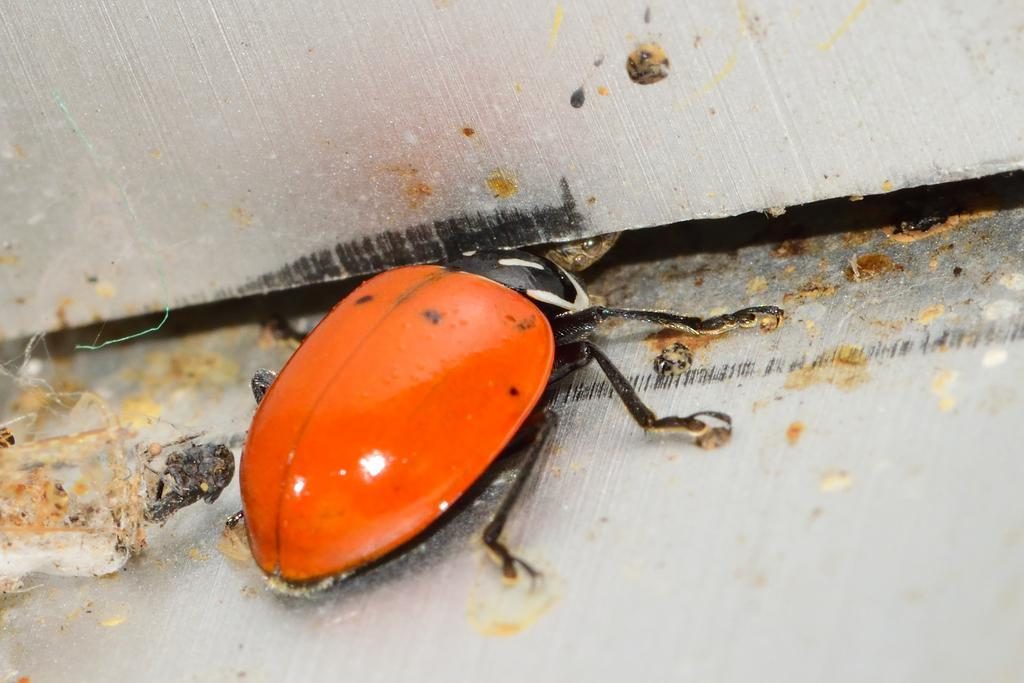ladybug: (225, 241, 789, 599)
